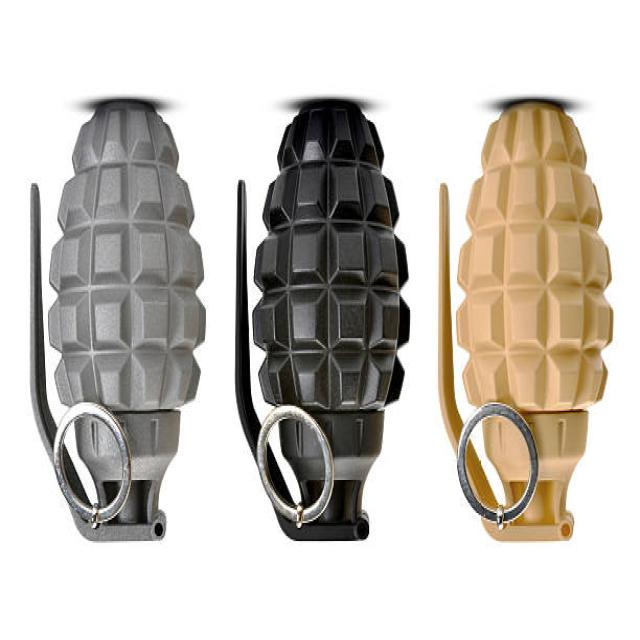grenade: (21, 95, 211, 548), (436, 93, 619, 550), (235, 91, 415, 550)
